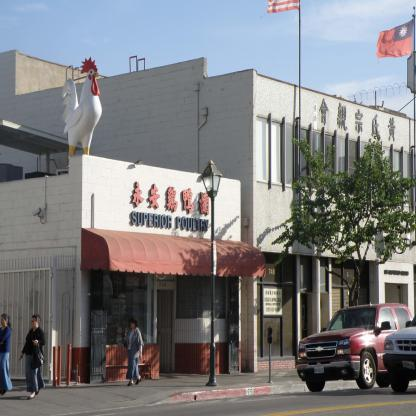car: (298, 305, 403, 396), (384, 318, 415, 389)
